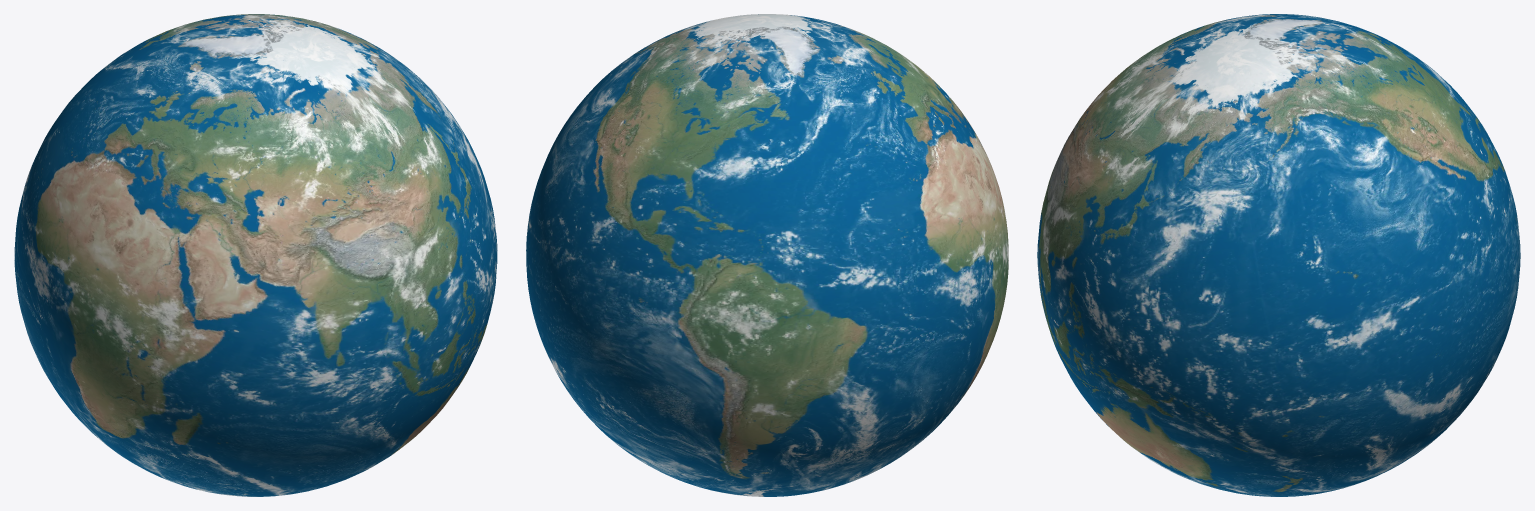
File: globe-hd.glb
The picture shows the model from 3 angles, left to right: view 1: azimuth 30°, elevation 25°; view 2: azimuth 150°, elevation 25°; view 3: azimuth 270°, elevation 25°; orthographic projection.
Parts seen in each view (by area): view 1: Sphere; view 2: Sphere; view 3: Sphere.
Part boxes in pixels (left/top/right/bottom): Sphere: left=14, top=14, right=497, bottom=496; Sphere: left=526, top=14, right=1008, bottom=496; Sphere: left=1037, top=14, right=1520, bottom=496.
Bounding box in the file's own units: 15.51 × 15.51 × 15.51.
1 material, 1 textured.
